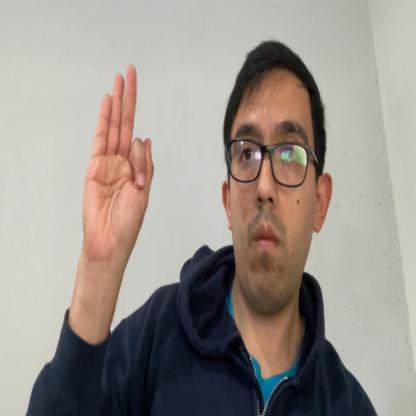F: (82, 63, 154, 261)
